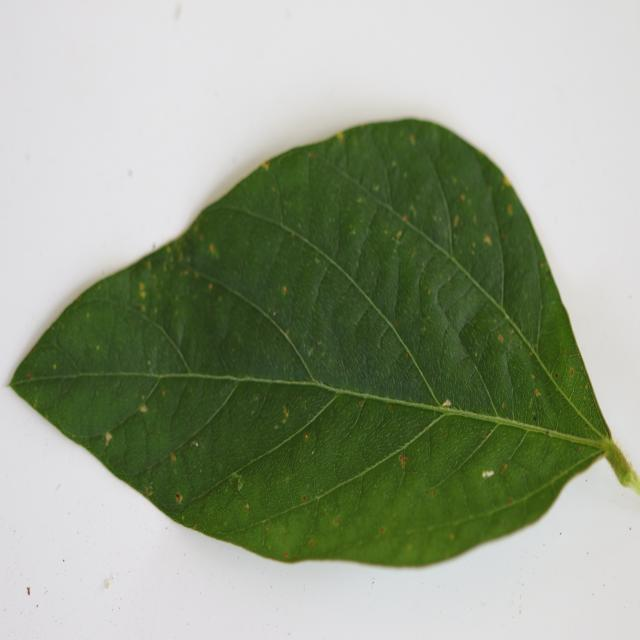Soybean: (8, 118, 640, 572)
downey_mildew: (410, 228, 559, 399), (202, 390, 365, 518), (304, 148, 421, 248), (465, 459, 592, 528), (312, 294, 398, 390), (212, 203, 325, 269), (532, 352, 608, 450), (426, 415, 514, 494), (406, 310, 472, 404), (378, 409, 461, 478), (212, 496, 325, 541), (350, 337, 424, 405), (412, 391, 528, 433), (258, 303, 316, 382), (308, 456, 394, 509), (460, 336, 510, 427), (286, 412, 318, 515), (20, 368, 209, 385), (497, 418, 603, 447), (190, 374, 350, 391), (319, 386, 419, 413), (422, 402, 500, 430), (137, 367, 174, 410), (560, 352, 588, 386), (437, 395, 472, 418)
